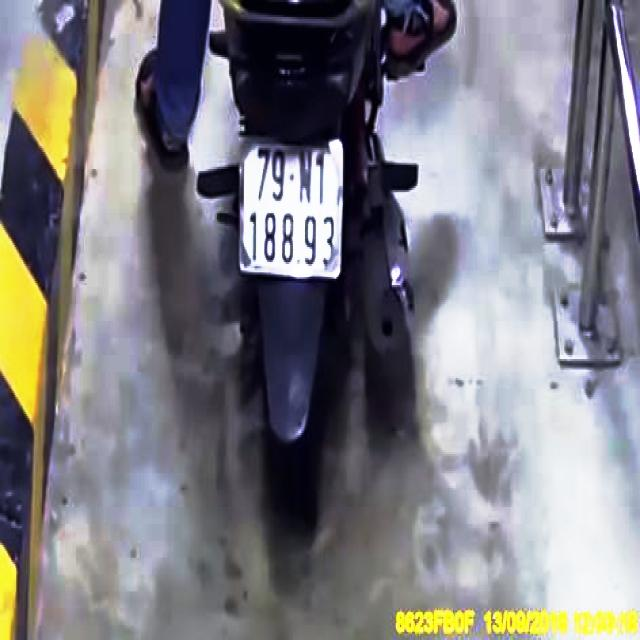license_plate: (244, 142, 341, 277)
